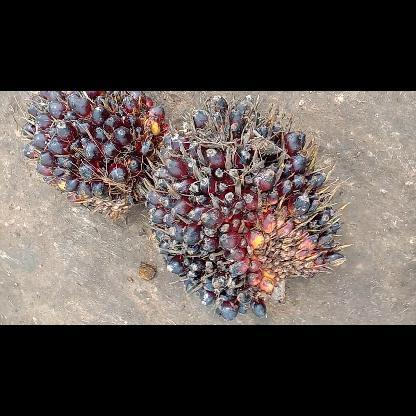TBS mentah: (143, 91, 345, 321), (21, 92, 163, 218)
